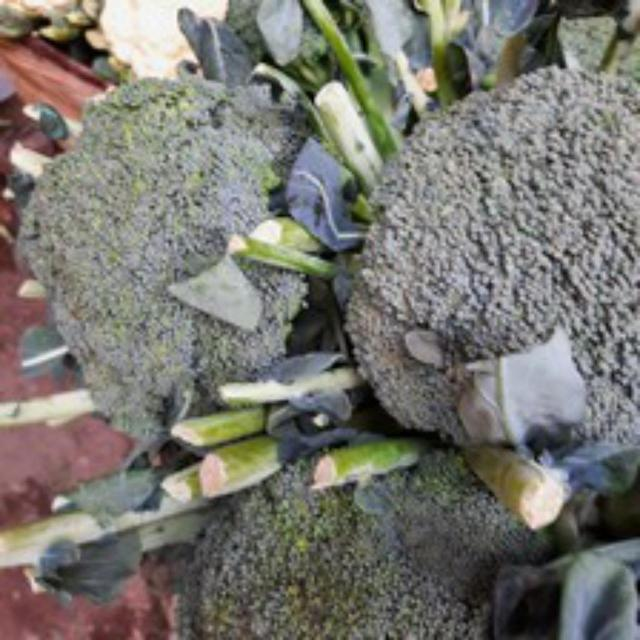broccoli: (342, 56, 640, 449)
